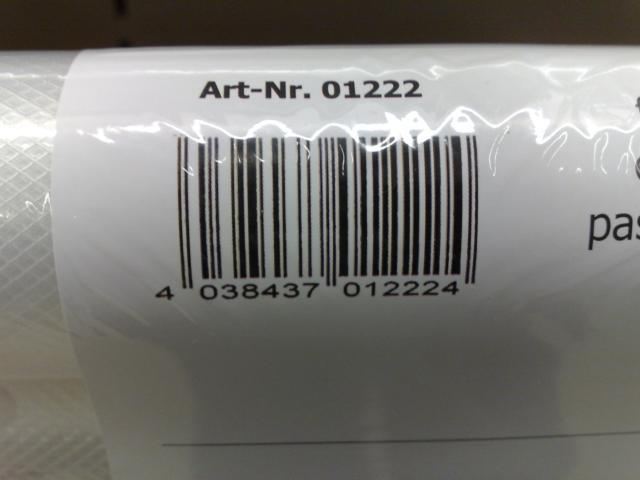Barcode: (146, 120, 493, 310)
